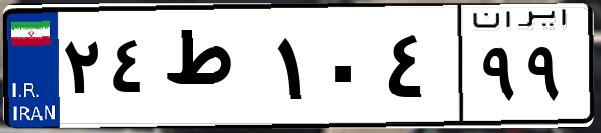0: (330, 28, 385, 110)
1: (270, 28, 330, 110)
2: (57, 26, 110, 100)
4: (385, 28, 445, 110), (110, 28, 158, 98)
9: (475, 38, 525, 113), (525, 38, 570, 115)
ط: (158, 20, 270, 120)
